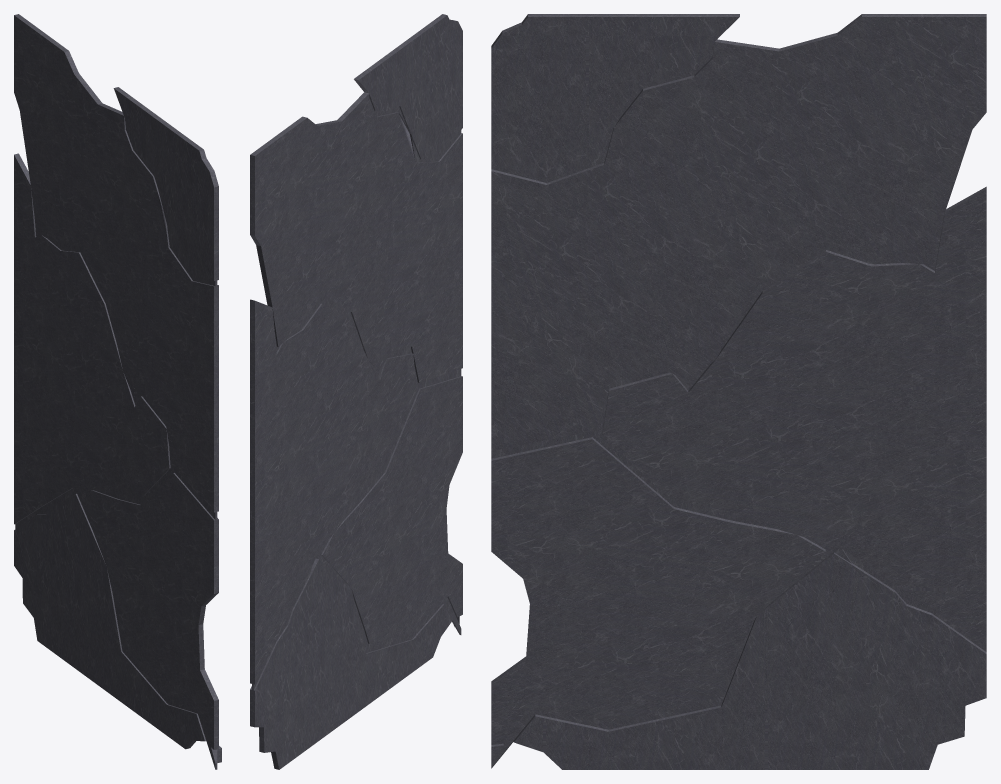
Rendered from lustro_puste.glb.
3 renders of one model, left to right at view 1: azimuth 30°, elevation 25°; view 2: azimuth 150°, elevation 25°; view 3: azimuth 270°, elevation 25°, orthographic. The views are drawn at different scales.
Parts seen in each view (by area): view 1: Plane; view 2: Plane; view 3: Plane.
Part boxes in pixels (x1,y1,x2,y2): Plane: (14,14,221,769); Plane: (250,14,462,769); Plane: (491,14,986,769).
Bounding box in the file's own units: 0.0451 × 3.36 × 2.
Materials: 1 (1 with a texture image).
